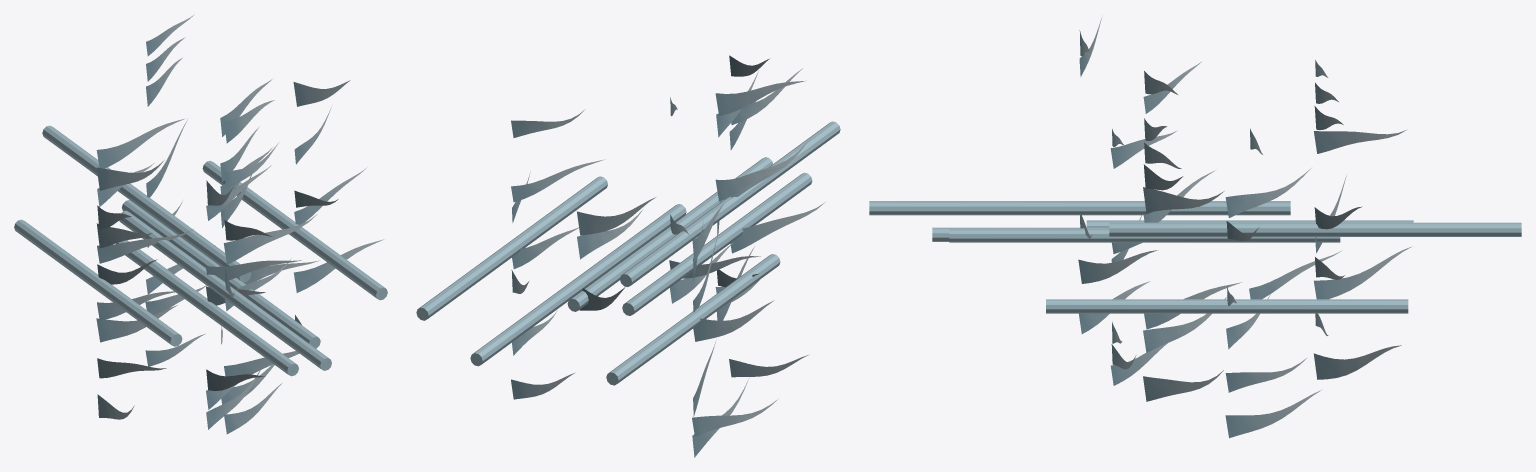
File: mesh-plant-048-pinkstem_LOD0.glb
The picture shows the model from 3 angles, left to right: view 1: azimuth 30°, elevation 25°; view 2: azimuth 150°, elevation 25°; view 3: azimuth 270°, elevation 25°; orthographic projection. The views are drawn at different scales.
Visible parts, largest first — view 1: geometry_0; view 2: geometry_0; view 3: geometry_0.
Part boxes in pixels (x1=…): geometry_0: x1=14, y1=14, x2=387, y2=434; geometry_0: x1=416, y1=55, x2=840, y2=457; geometry_0: x1=869, y1=18, x2=1521, y2=438.
Size of the model in its own units: 1.13 by 1.12 by 1.81.
